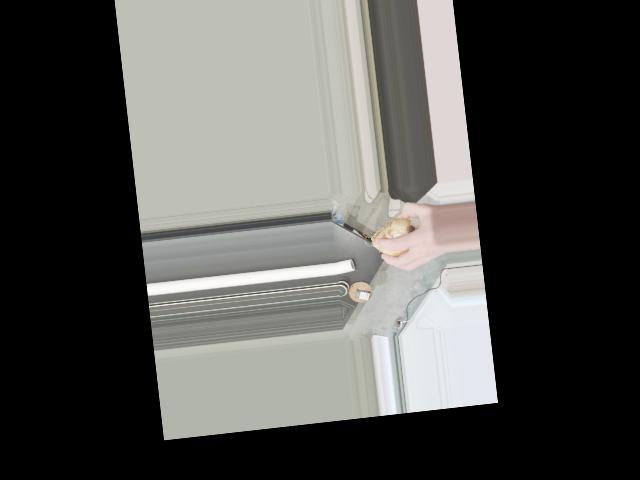onion: (370, 216, 416, 257)
